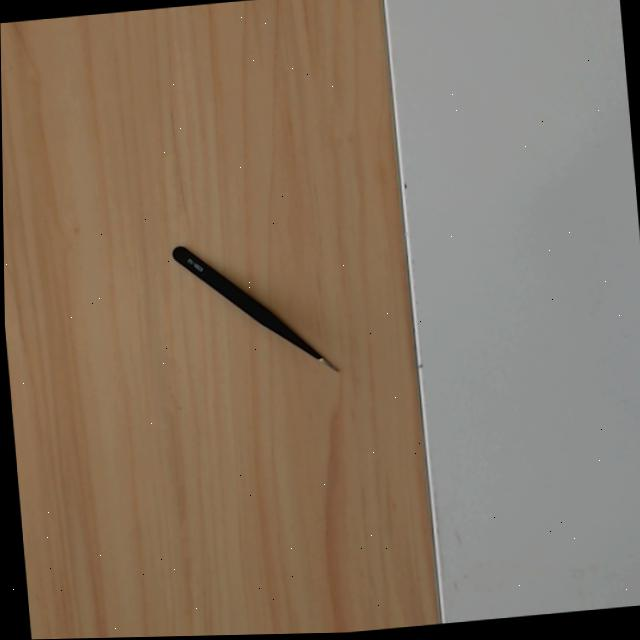Tweezers: (168, 241, 343, 375)
